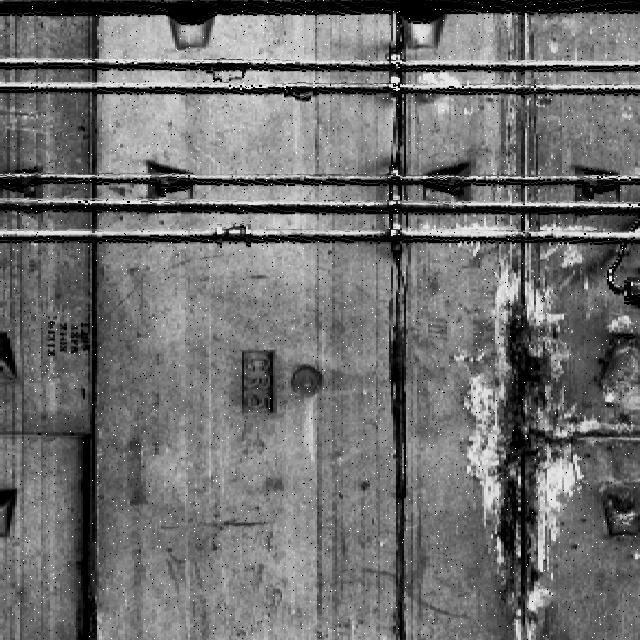leakage: (459, 255, 596, 640), (380, 1, 418, 636)
